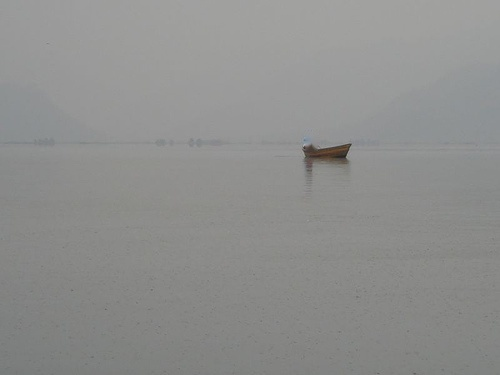boat: (304, 142, 354, 160)
